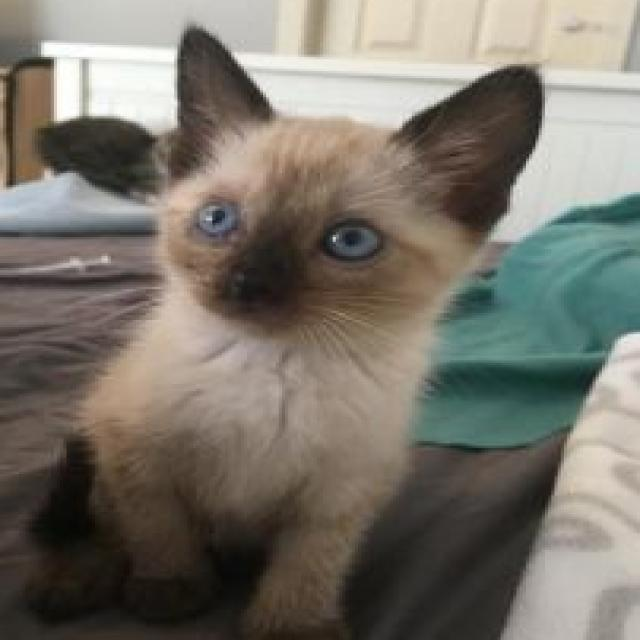Siamese: (13, 21, 545, 640)
